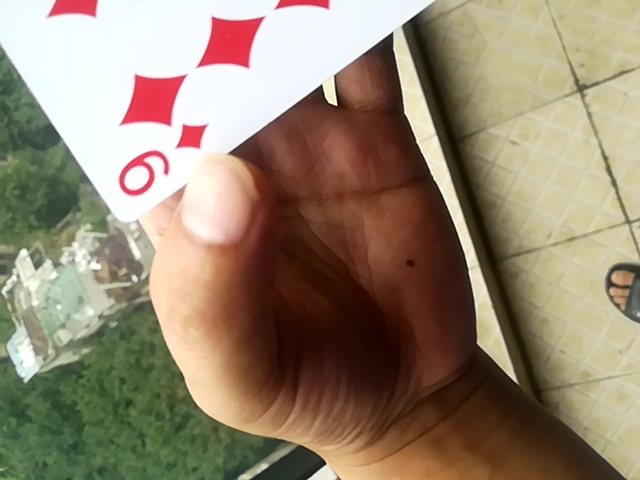fk 9: (0, 1, 497, 229)
